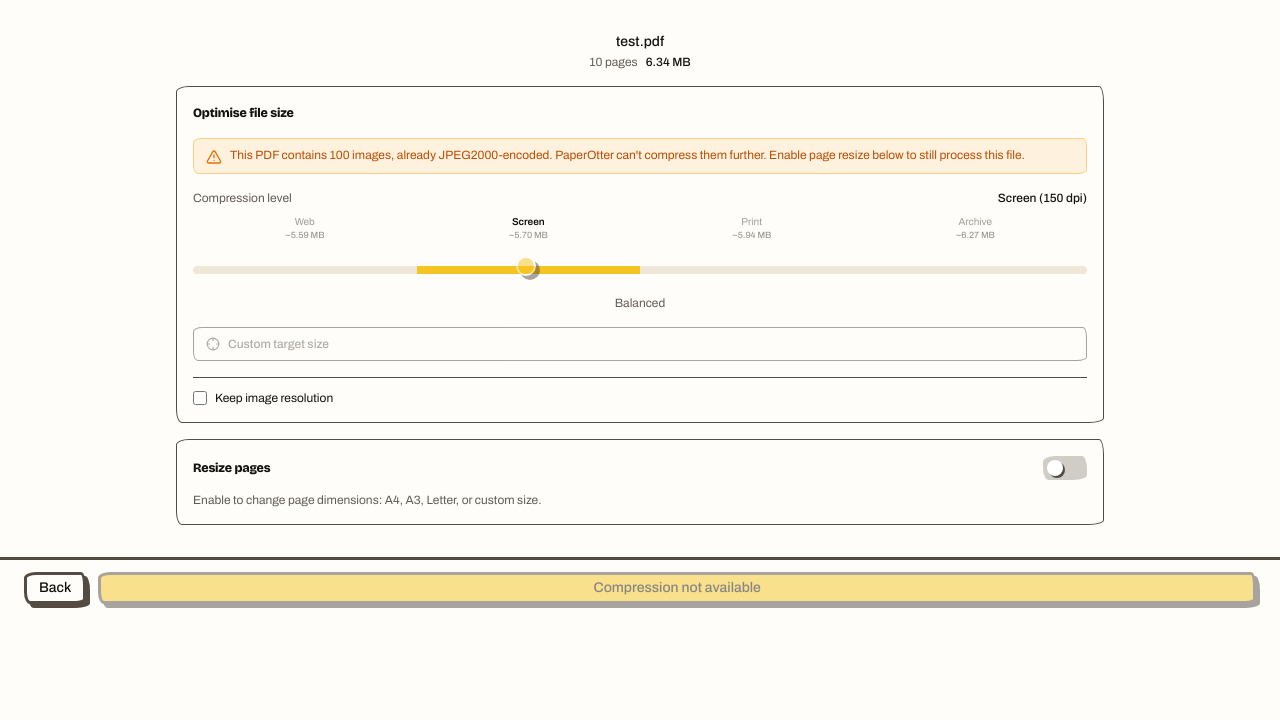
ConfigureStep — JPX-dominated PDFs are treated as non-compressible › [JPX-CFG-04] re-enables the controls once resize is turned on
Click the switch with test id "resize-toggle".
click(1065, 468)  # box [1043,456,1087,480]
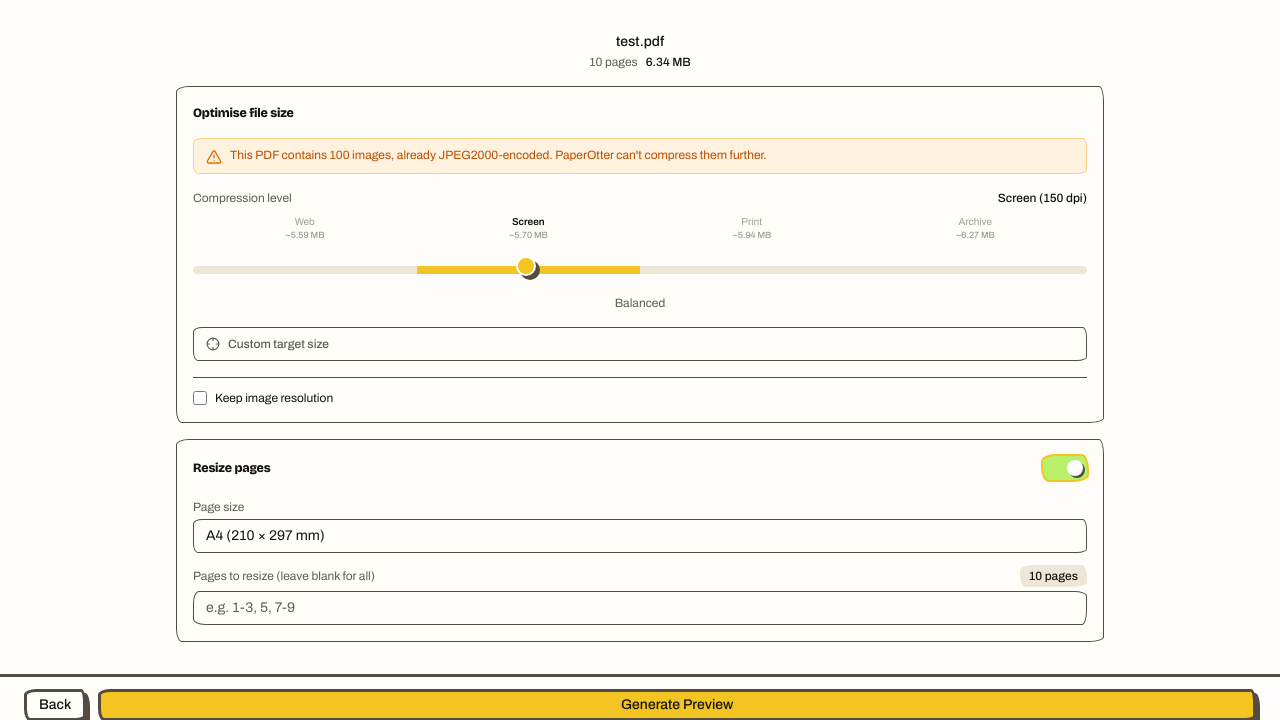
Check: the button with test id "generate-preview-btn" is enabled, box [98,689,1256,719]
Check: the slider with test id "compression-slider" is enabled, box [193,254,1087,278]
